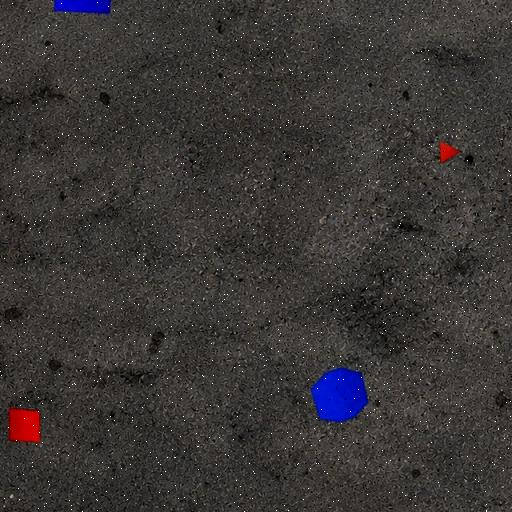RED_SQUARE: (8, 408, 41, 443)
